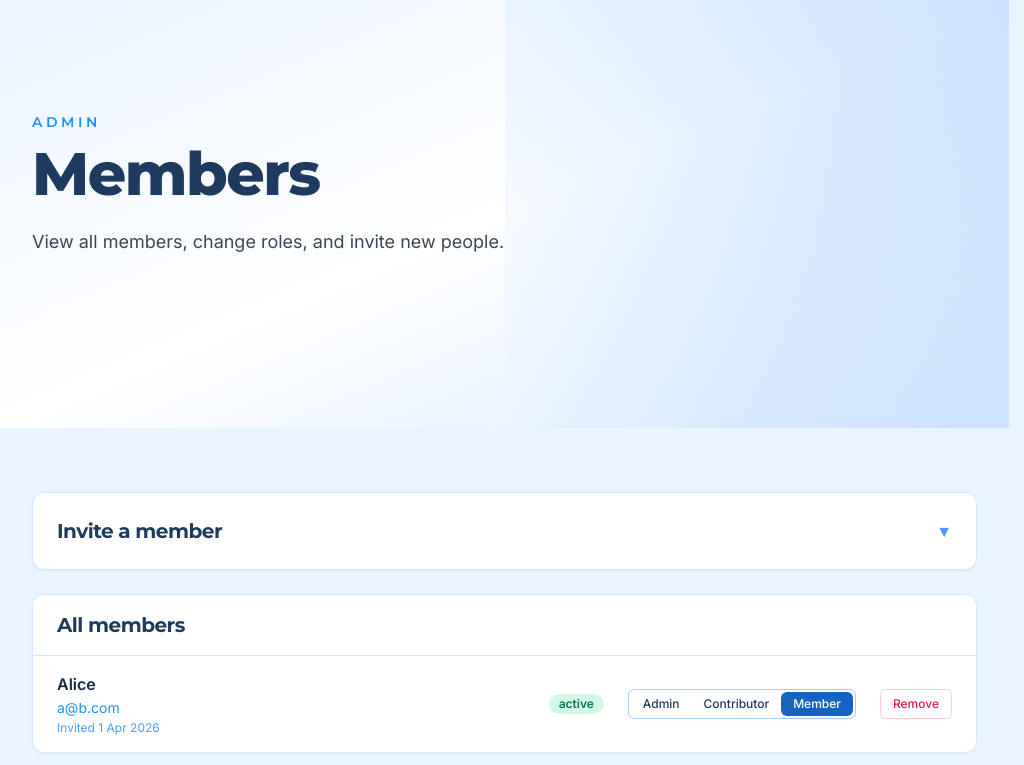
Test case: MemberManagementView › shows a save error when deleteMember returns non-ok
What coordinates should you click on to do the following:
click the button "Remove"
I would click on:
 (916, 704)
Its box is left=880, top=689, right=952, bottom=719.
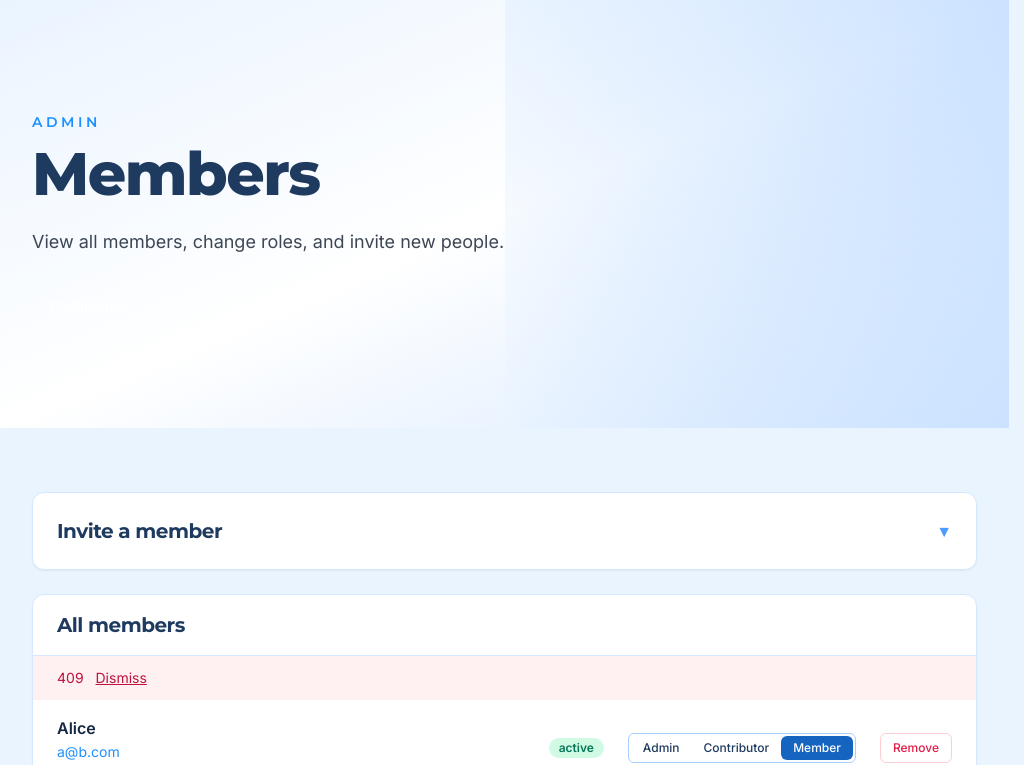
Check: the text "409" is shown, box left=57, top=669, right=88, bottom=686
